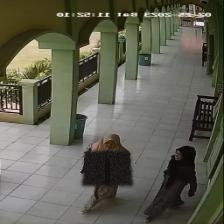Cadar_Niqab: (82, 133, 132, 185)
